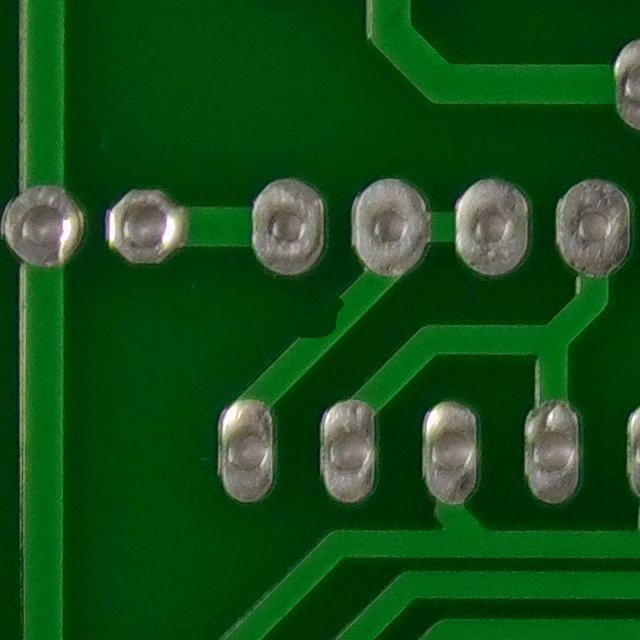mouse_bite: (282, 290, 359, 351)
